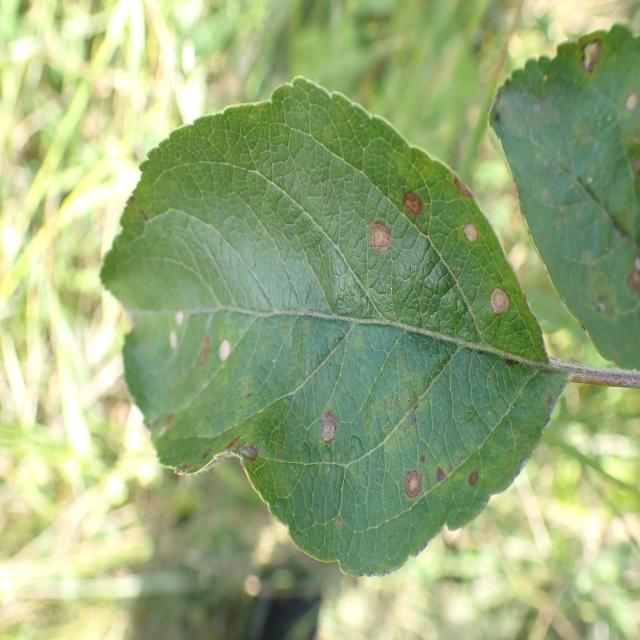frog-eye-leaf-spot: (99, 78, 569, 576), (486, 23, 640, 372)
